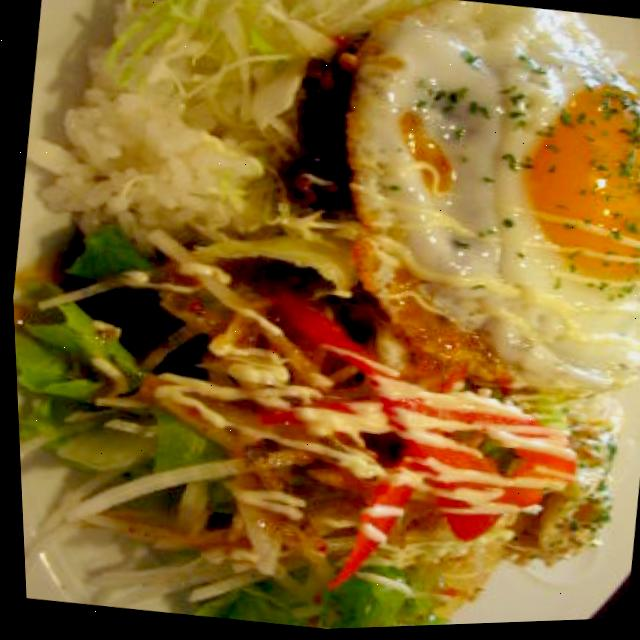鸡蛋料理: (321, 0, 640, 412)
